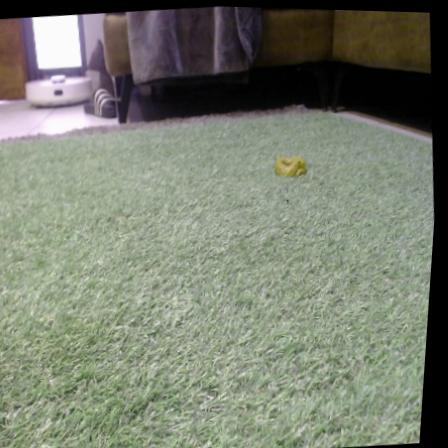dog-poop: (272, 149, 314, 180)
